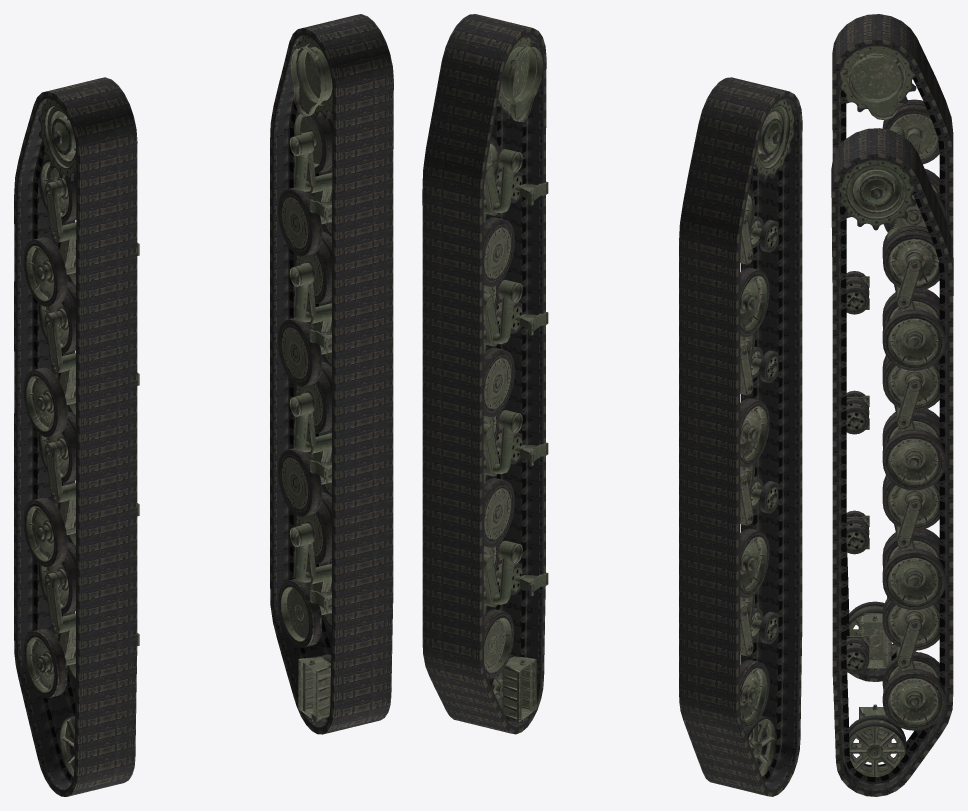
The model's file is Chassis.glb.
The picture shows the model from 3 angles, left to right: view 1: azimuth 30°, elevation 25°; view 2: azimuth 150°, elevation 25°; view 3: azimuth 270°, elevation 25°; orthographic projection. The views are drawn at different scales.
Parts seen in each view (by area): view 1: set_1_group_0, set_0_group_0, set_3_group_0, set_2_group_0; view 2: set_1_group_0, set_0_group_0, set_3_group_0, set_2_group_0; view 3: set_3_group_0, set_0_group_0, set_2_group_0, set_1_group_0.
Part boxes in pixels (x1,y1,x2,y2): set_1_group_0: [14, 77, 137, 796]; set_0_group_0: [270, 14, 393, 734]; set_3_group_0: [278, 35, 332, 721]; set_2_group_0: [23, 98, 139, 776]; set_1_group_0: [679, 77, 802, 796]; set_0_group_0: [422, 14, 546, 734]; set_3_group_0: [483, 35, 548, 721]; set_2_group_0: [740, 98, 794, 776]; set_3_group_0: [838, 160, 945, 777]; set_0_group_0: [831, 128, 953, 796]; set_2_group_0: [839, 46, 945, 672]; set_1_group_0: [832, 14, 953, 681].
Bounding box in the file's own units: 3.31 × 6.98 × 1.2.
4 materials, 4 textured.
